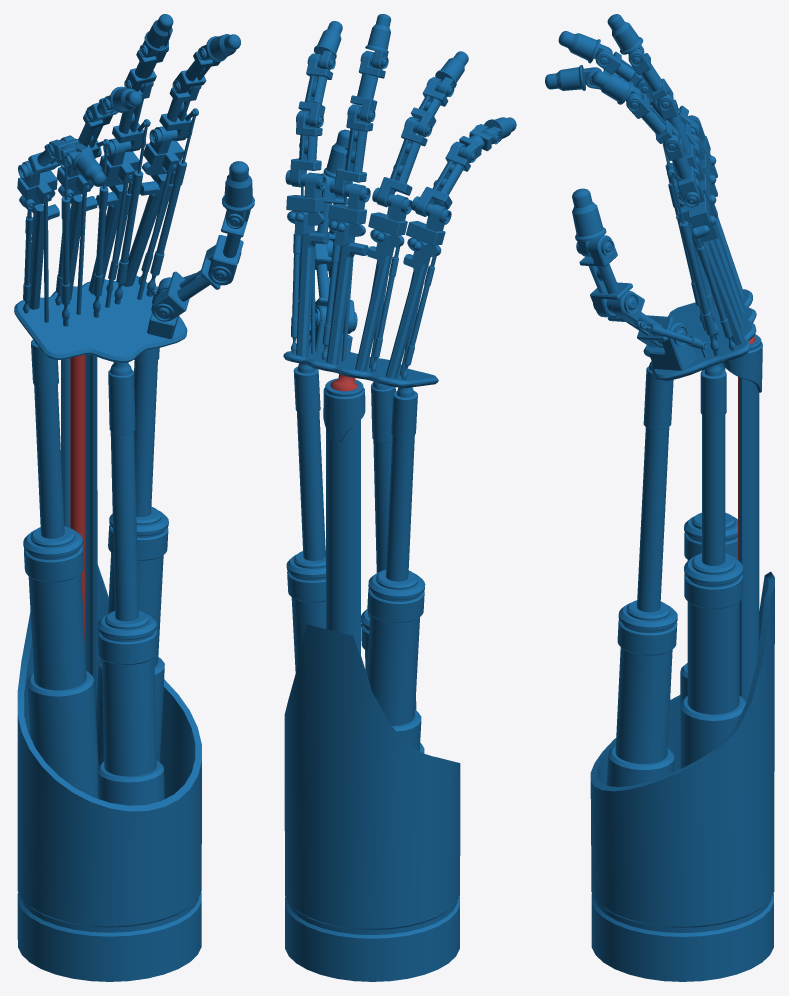
Rendered from T800_Arm.fbx.
3 views of the same model, side by side, from view 1: azimuth 30°, elevation 25°; view 2: azimuth 150°, elevation 25°; view 3: azimuth 270°, elevation 25° (orthographic). The views are drawn at different scales.
Visible parts, largest first — view 1: pCylinder52; view 2: pCylinder52; view 3: pCylinder52.
Boxes of the visible parts, bbox=[...] form: pCylinder52: bbox=[14, 14, 254, 981]; pCylinder52: bbox=[283, 14, 516, 981]; pCylinder52: bbox=[545, 14, 774, 981].
Bounding box in the file's own units: 2.35 × 11.31 × 2.51.
